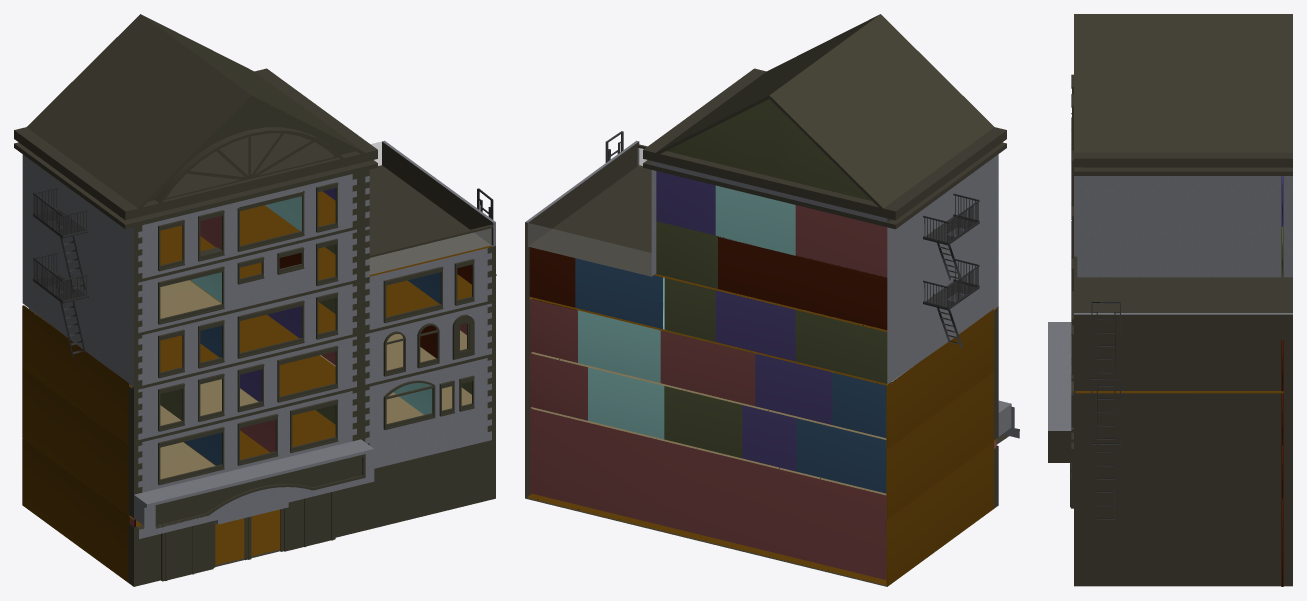
The model's file is Buildingmain.fbx.
3 views of the same model, side by side, from view 1: azimuth 30°, elevation 25°; view 2: azimuth 150°, elevation 25°; view 3: azimuth 270°, elevation 25° (orthographic).
Visible parts, largest first — view 1: polySurface2335; view 2: polySurface2335; view 3: polySurface2335.
Part boxes in pixels (left/top/right/bottom): polySurface2335: left=14, top=14, right=496, bottom=586; polySurface2335: left=525, top=14, right=1019, bottom=586; polySurface2335: left=1048, top=14, right=1292, bottom=586.
Bounding box in the file's own units: 486 × 539 × 262.
